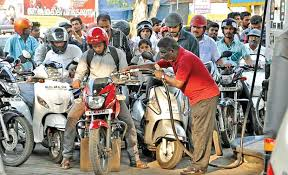helmet: (86, 26, 112, 58), (45, 26, 69, 56), (11, 16, 35, 40), (163, 11, 183, 38), (189, 14, 207, 38)
